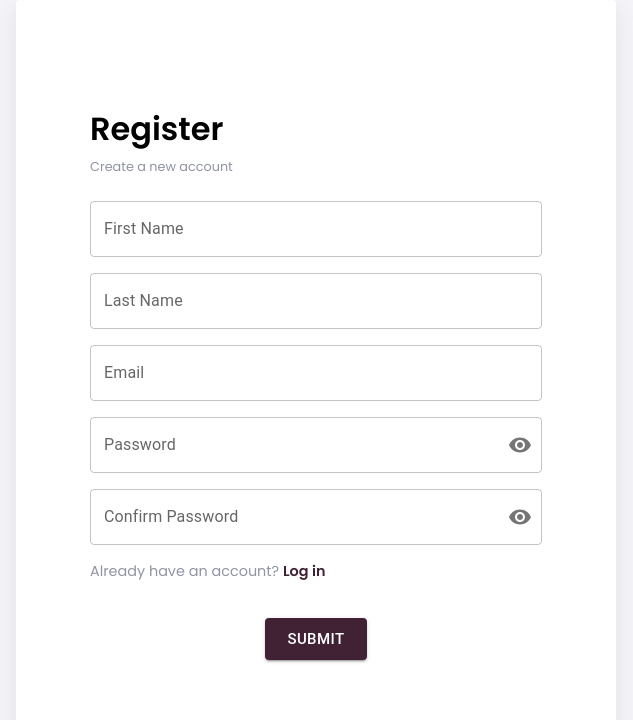
Scenario: Register Page › should show passwords don't match
The image size is (633, 720).
Fill in incorrect details
Type "Test" into the field with id "firstName". click: (316, 229)
box: [90,201,542,257]
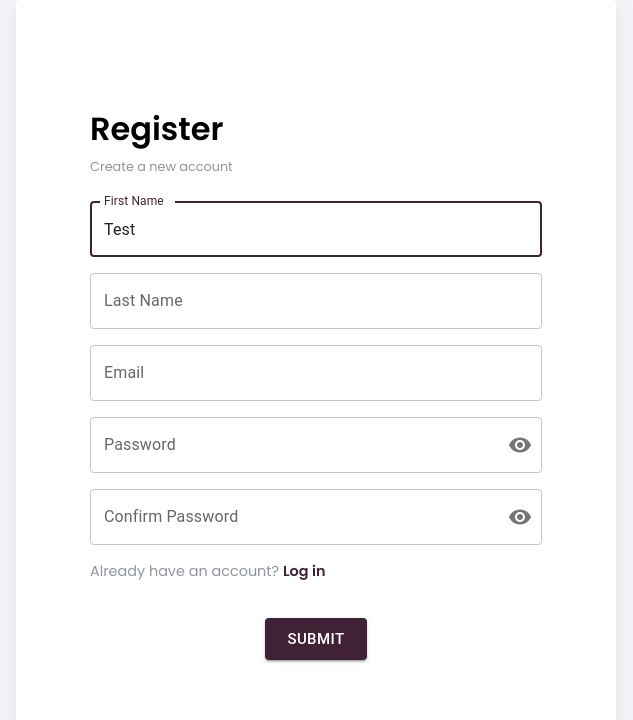
Type "User" into the field with id "lastName". click: (316, 301)
box: [90,273,542,329]
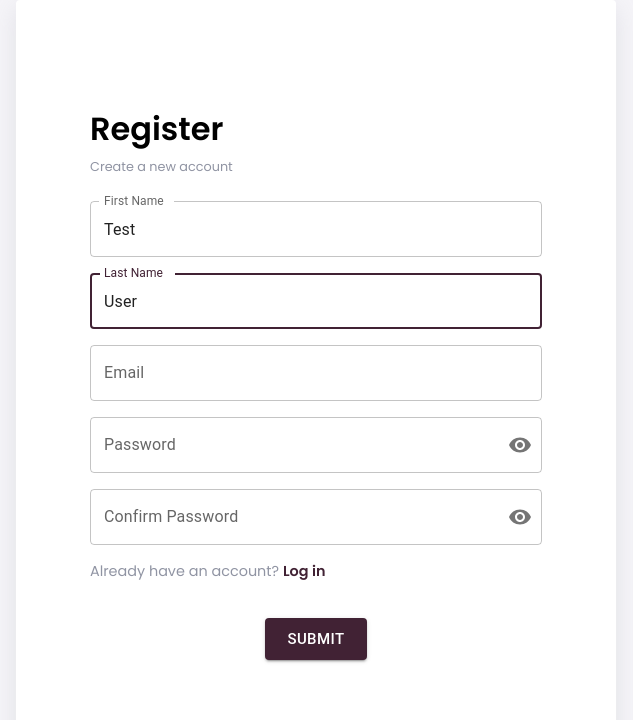
Type "test_user@yahoo.com" into the field with id "email". click: (316, 373)
box: [90,345,542,401]
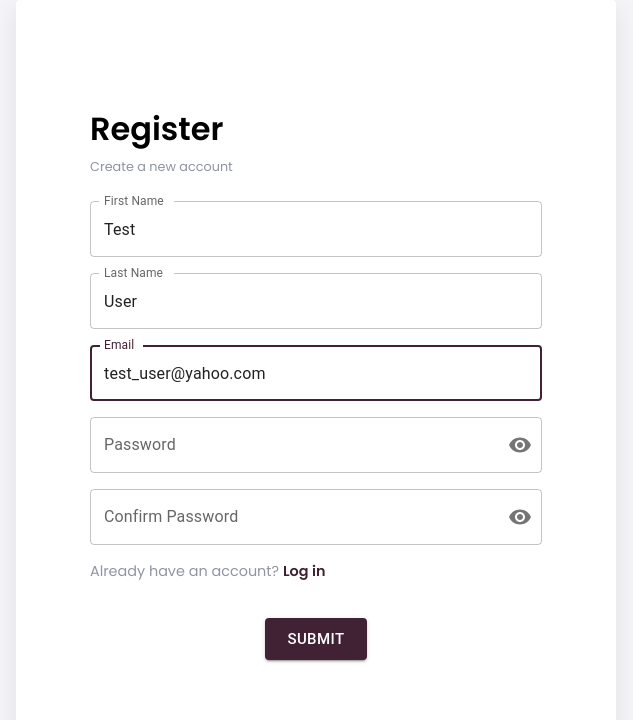
Type "12345678" into the password field labelled "Password". click: (291, 445)
box: [90,417,492,473]
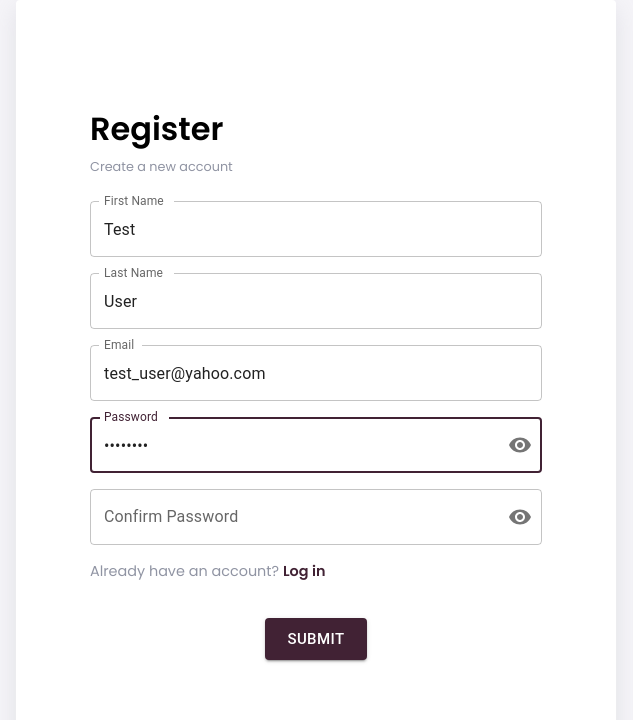
Type "1234" into the password field with id "confirmPassword". click: (291, 517)
box: [90,489,492,545]
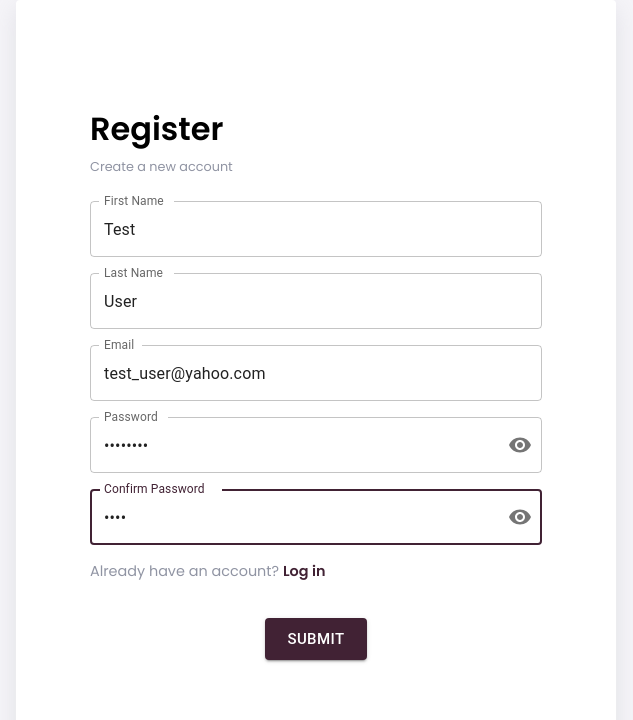
Click the button "Submit". click: (316, 639)
box: [265,618,366,660]
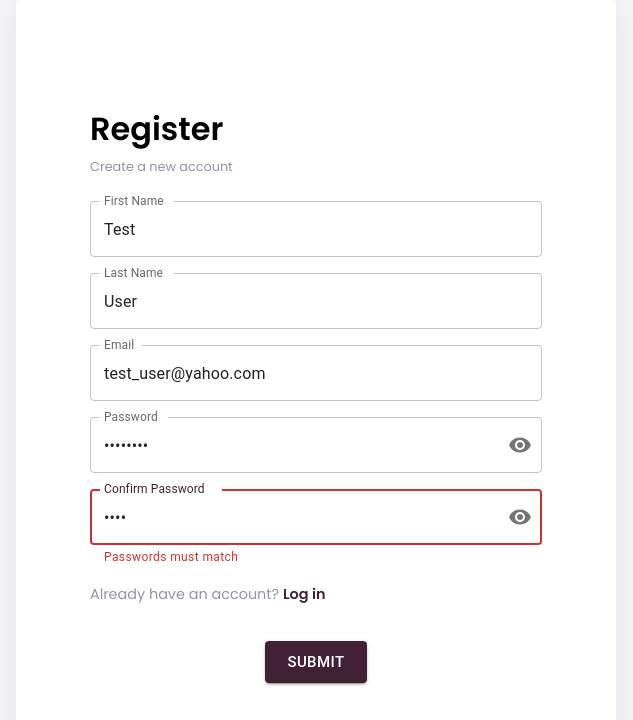
Result: the text with id "confirmPassword-error" reads "Passwords must match" at [104,550,238,564]
